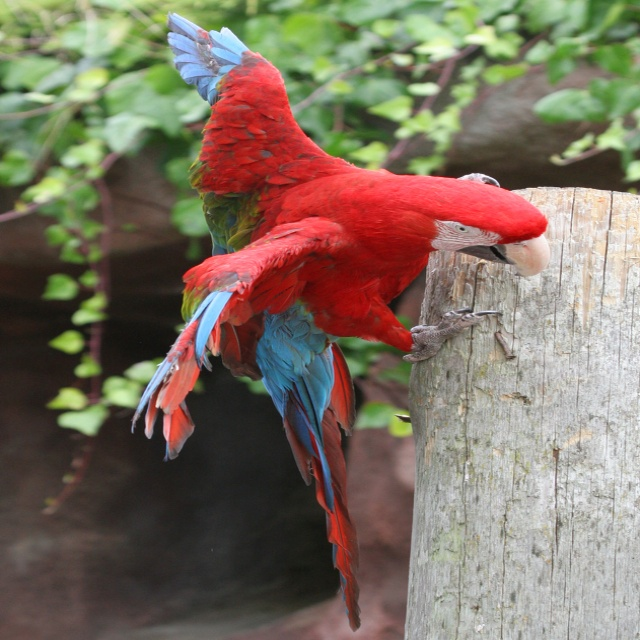Parrot: (129, 12, 557, 631)
